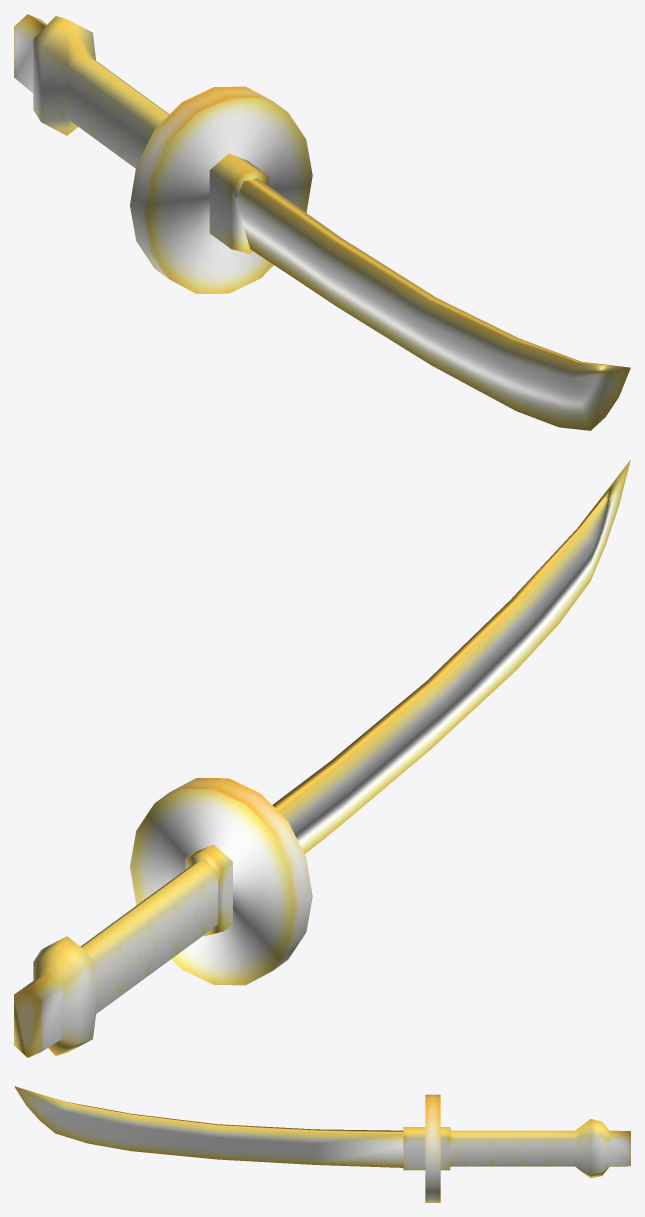
The picture shows the model from 3 angles, top to bottom: view 1: azimuth 30°, elevation 25°; view 2: azimuth 150°, elevation 25°; view 3: azimuth 270°, elevation 25°; orthographic projection. The views are drawn at different scales.
Visible parts, largest first — view 1: mKatana; view 2: mKatana; view 3: mKatana.
Boxes of the visible parts, box(x1,y1,x2,y2) form: mKatana: box(14, 14, 630, 430); mKatana: box(14, 459, 630, 1057); mKatana: box(14, 1086, 630, 1202).
Size of the model in its own units: 0.1469 by 0.1844 by 0.9145.
Materials: 2 (2 with a texture image).
